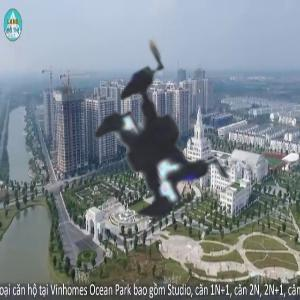drone: (14, 4, 298, 288)
